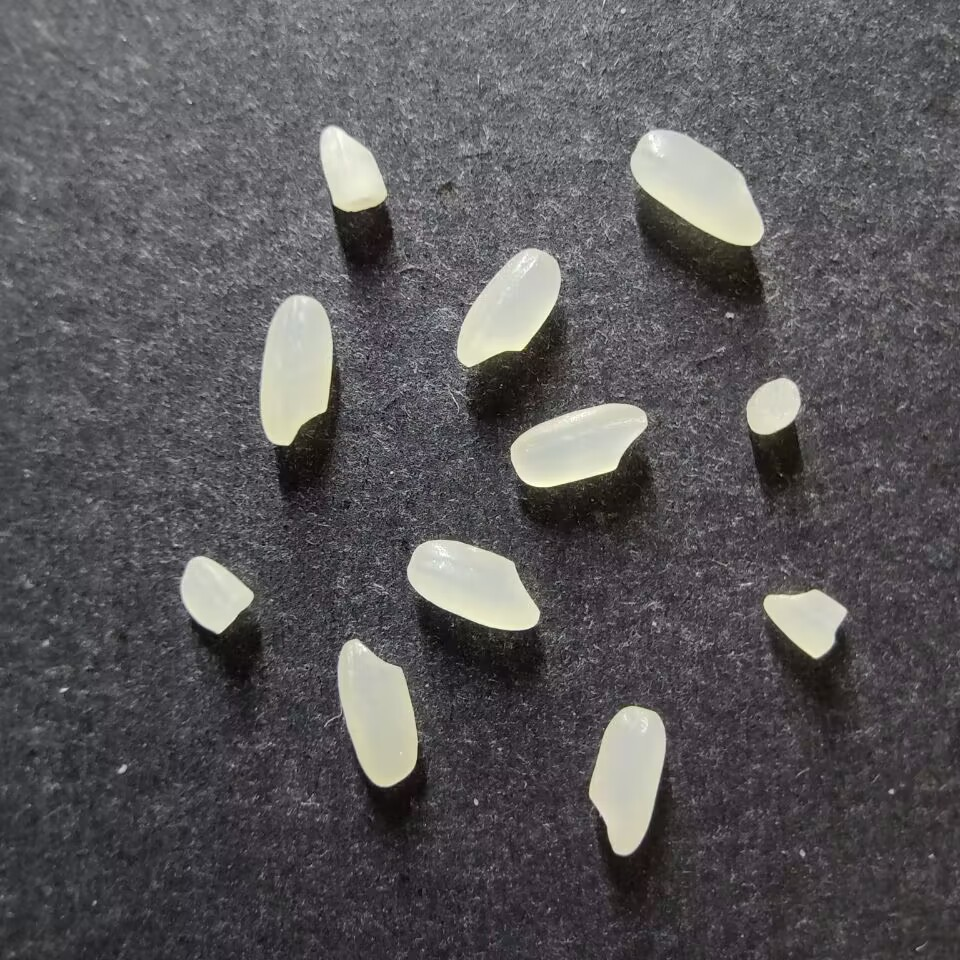broken: (762, 589, 848, 659), (318, 125, 387, 212), (179, 555, 253, 634), (746, 376, 801, 435)
rice: (629, 129, 764, 246), (455, 248, 562, 367), (405, 539, 540, 631), (336, 638, 418, 788), (588, 706, 666, 857), (510, 403, 647, 488), (258, 294, 333, 446)
